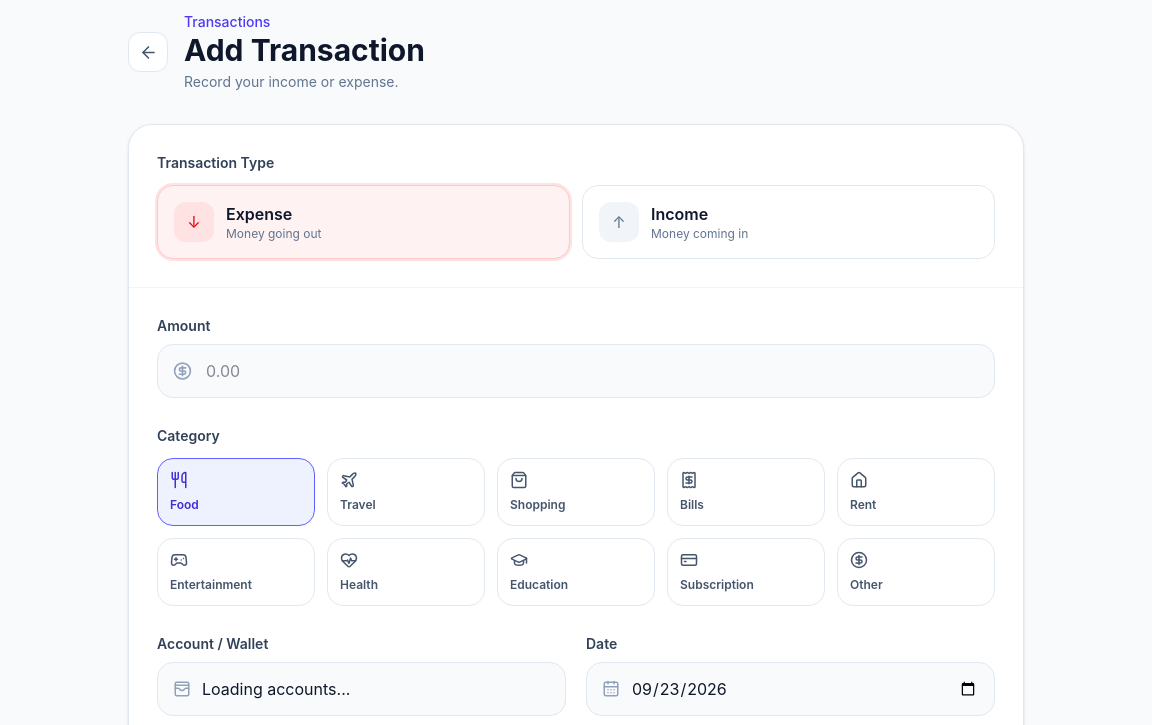
Scenario: Add Transaction Component › should switch from Expense to Income
This screenshot has width=1152, height=725.
Expected: the text "Food" is shown, [170, 497, 199, 512]
Click the button "↑ Income Money coming in". click: (619, 222)
box: [582, 185, 995, 259]
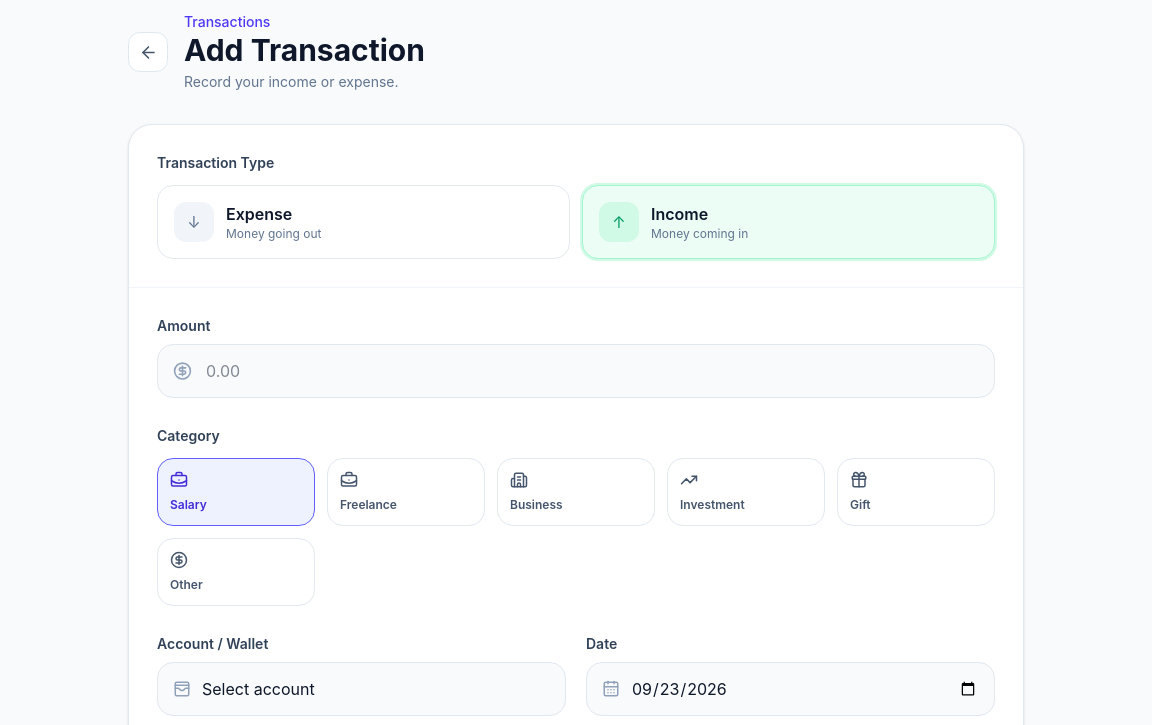
Now the text "Salary" is shown, box [170, 497, 207, 512]
Now the button "Food" is gone
